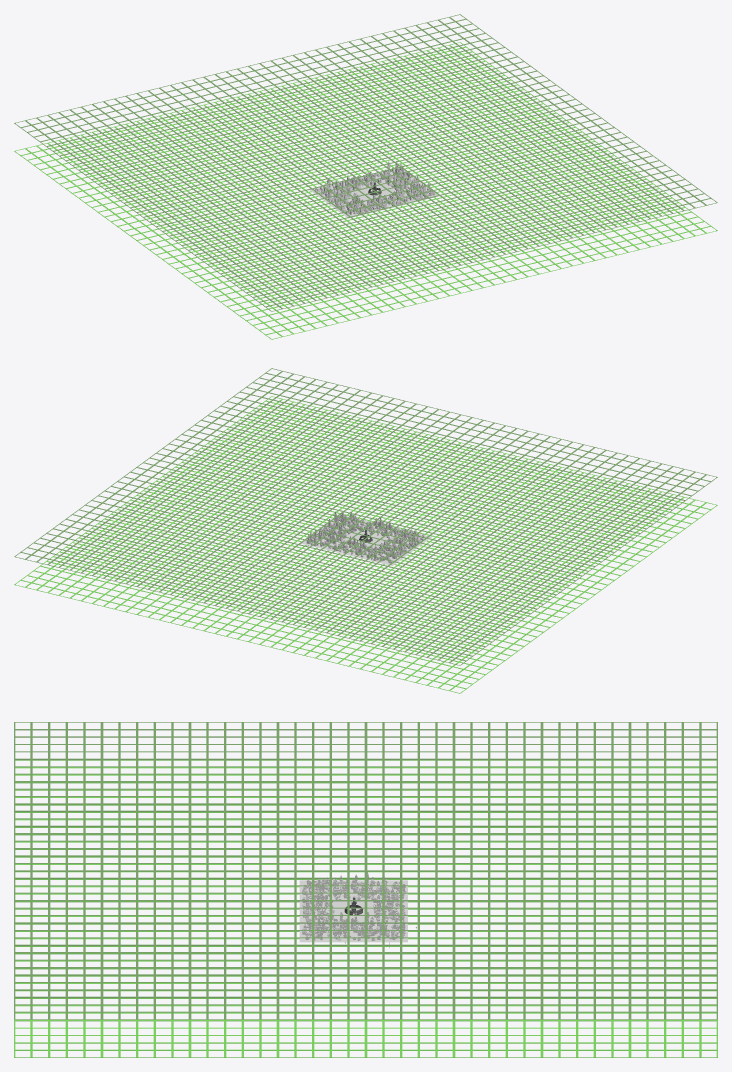
The model's file is Worm Map mao ba gyud.fbx.
3 renders of one model, top to bottom at view 1: azimuth 30°, elevation 25°; view 2: azimuth 150°, elevation 25°; view 3: azimuth 270°, elevation 25°, orthographic. The views are drawn at different scales.
Parts seen in each view (by area): view 1: Upper Grid (Emissive), Lower Grid Emissive, Ground; view 2: Upper Grid (Emissive), Lower Grid Emissive, Ground; view 3: Upper Grid (Emissive), Lower Grid Emissive, Ground.
Boxes of the visible parts, x1,y1,x2,y2 form: Upper Grid (Emissive): [14, 14, 717, 311]; Lower Grid Emissive: [14, 42, 717, 339]; Ground: [309, 169, 439, 218]; Upper Grid (Emissive): [14, 368, 717, 665]; Lower Grid Emissive: [14, 396, 717, 693]; Ground: [301, 515, 431, 565]; Upper Grid (Emissive): [14, 722, 717, 1019]; Lower Grid Emissive: [14, 760, 717, 1057]; Ground: [299, 880, 407, 942].
Bounding box in the file's own units: 148827 × 12059 × 148827.
